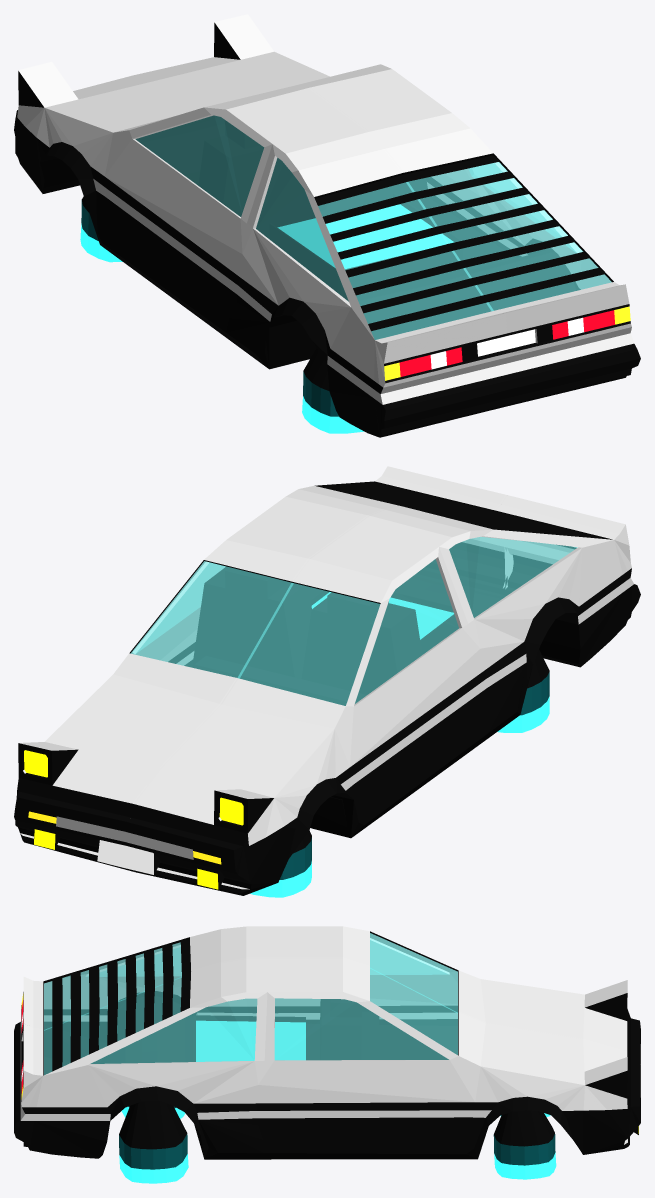
Rendered from car.glb.
The picture shows the model from 3 angles, top to bottom: view 1: azimuth 30°, elevation 25°; view 2: azimuth 150°, elevation 25°; view 3: azimuth 270°, elevation 25°; orthographic projection. The views are drawn at different scales.
Visible parts, largest first — view 1: Car; view 2: Car; view 3: Car.
Part boxes in pixels (bbox=[...]): Car: bbox=[14, 14, 640, 437]; Car: bbox=[14, 466, 640, 897]; Car: bbox=[14, 926, 640, 1183].
Size of the model in its own units: 2.66 by 2.1 by 6.61.
